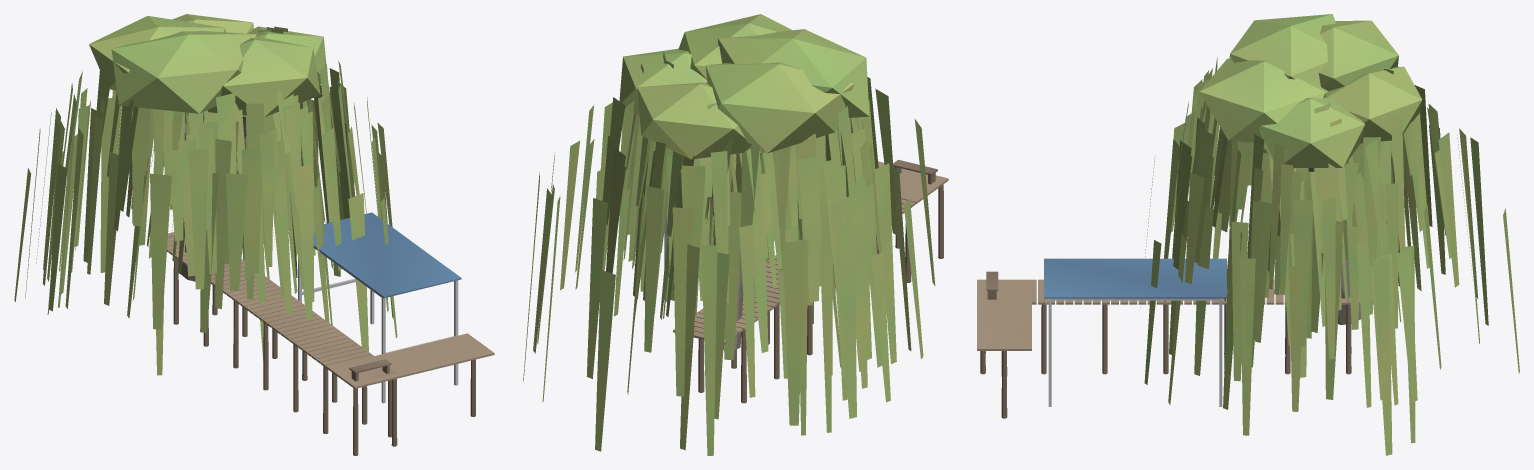
File: midwest_kit.glb
3 renders of one model, left to right at view 1: azimuth 30°, elevation 25°; view 2: azimuth 150°, elevation 25°; view 3: azimuth 270°, elevation 25°, orthographic. The views are drawn at different scales.
Parts seen in each view (by area): view 1: willow, private_dock; view 2: willow, private_dock; view 3: willow, private_dock.
Boxes of the visible parts, x1,y1,x2,y2 form: willow: [14, 14, 397, 375]; private_dock: [167, 212, 494, 455]; willow: [523, 14, 935, 455]; private_dock: [664, 159, 948, 403]; willow: [1139, 14, 1519, 455]; private_dock: [977, 258, 1373, 418].
Size of the model in its own units: 13.1 by 12.09 by 17.82.
